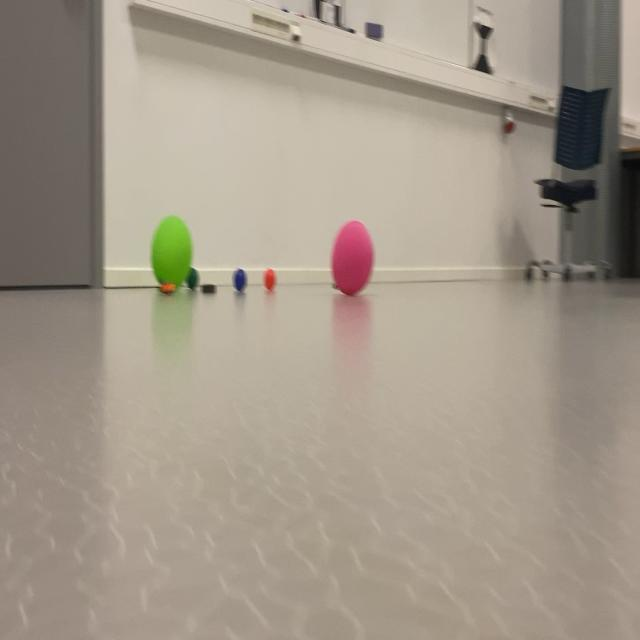7: (256, 262, 280, 302)
green ball: (227, 258, 250, 301)
red ball: (185, 262, 200, 296)
